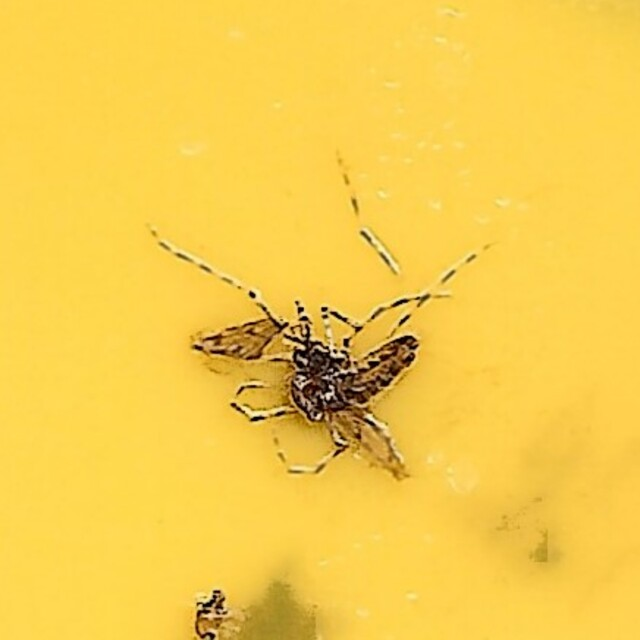Nematocera: (147, 150, 493, 490)
